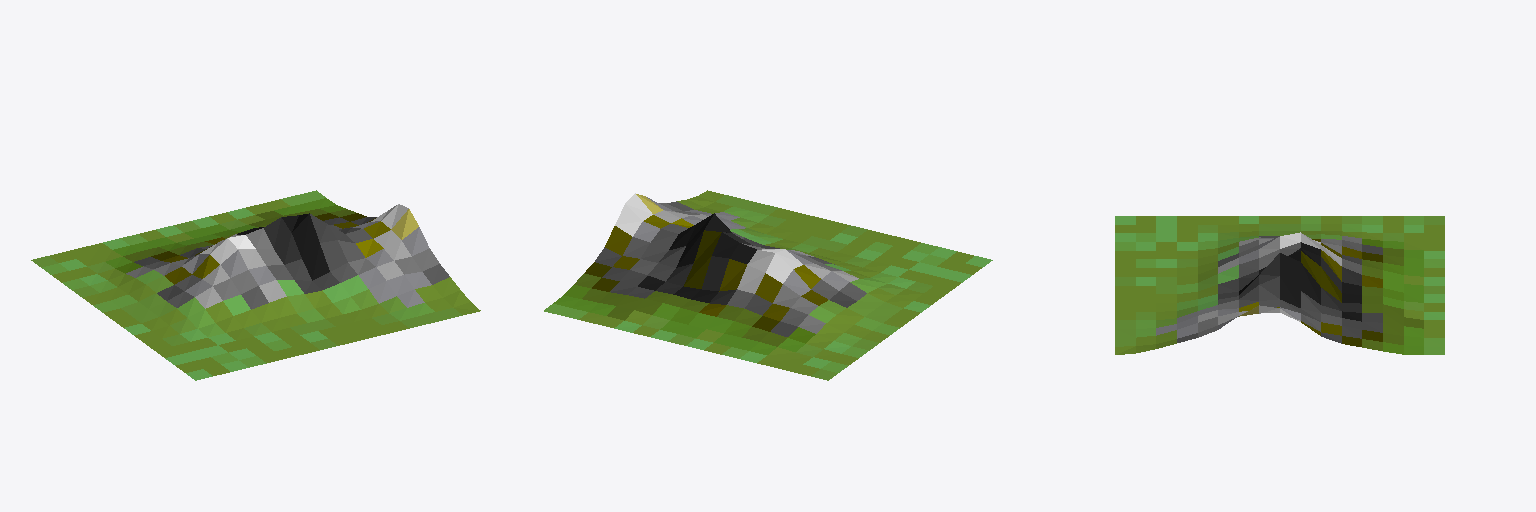
The picture shows the model from 3 angles: view 1: azimuth 30°, elevation 25°; view 2: azimuth 150°, elevation 25°; view 3: azimuth 270°, elevation 25°; orthographic projection.
Visible parts, largest first — view 1: mountains2; view 2: mountains2; view 3: mountains2.
Part boxes in pixels (x1,y1,x2,y2): mountains2: (31, 190, 480, 380); mountains2: (544, 190, 992, 380); mountains2: (1115, 216, 1444, 354).
Bounding box in the file's own units: 1 × 0.1981 × 1.
1 materials, 1 textured.